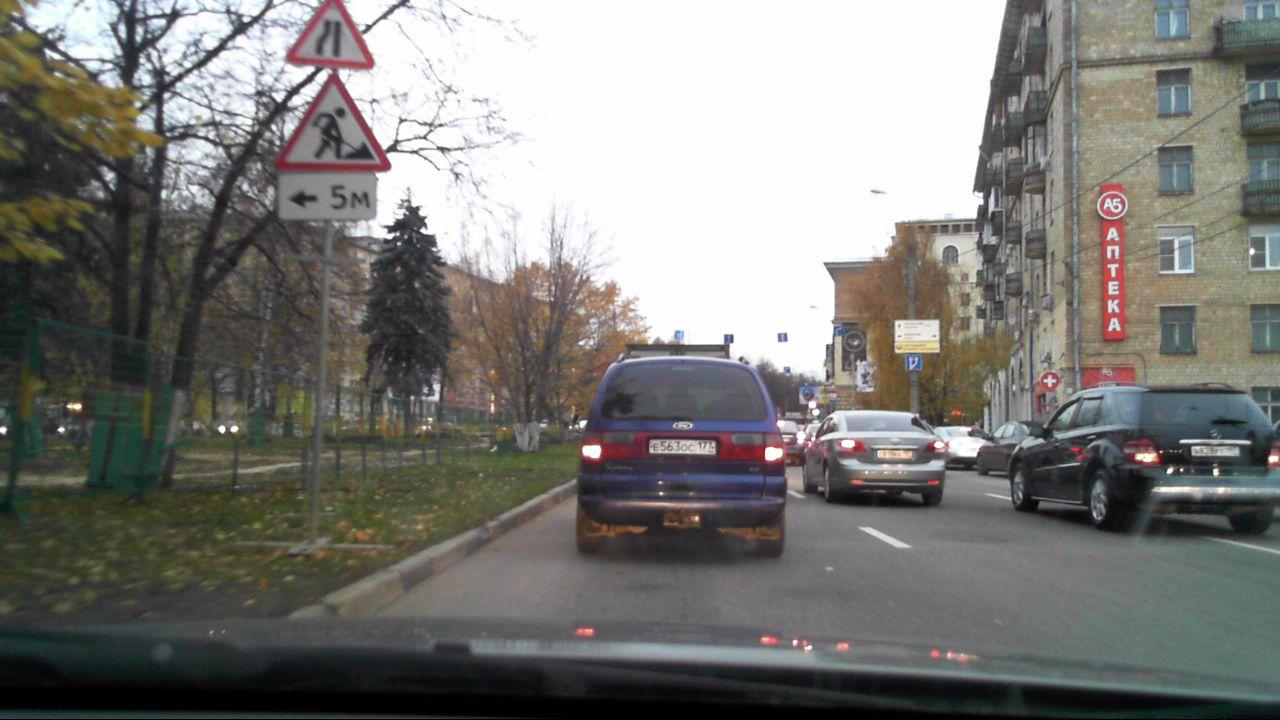1_20_3: (285, 0, 376, 67)
1_25: (271, 68, 394, 171)
5_15_2: (673, 328, 686, 341), (834, 323, 845, 336), (777, 330, 787, 343), (722, 334, 733, 344)
5_15_3: (906, 353, 923, 370)
8_1_4: (275, 172, 378, 221)
